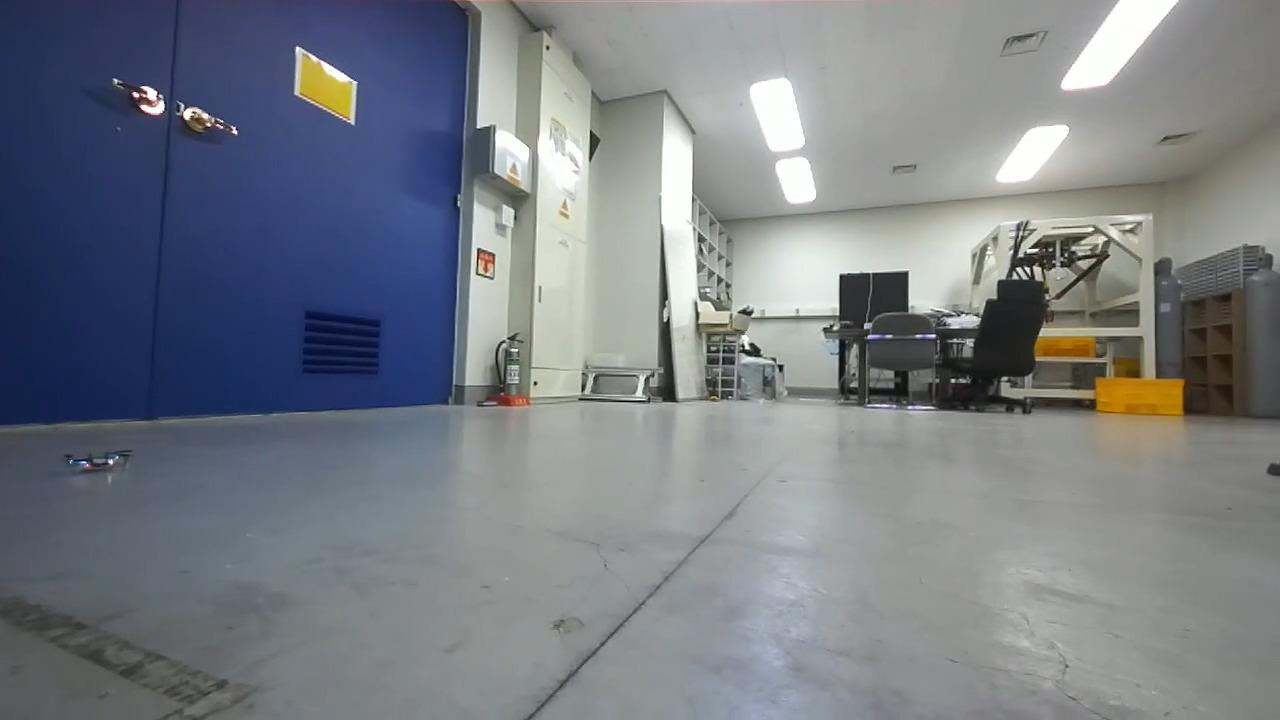crazyflie: (59, 446, 135, 477)
